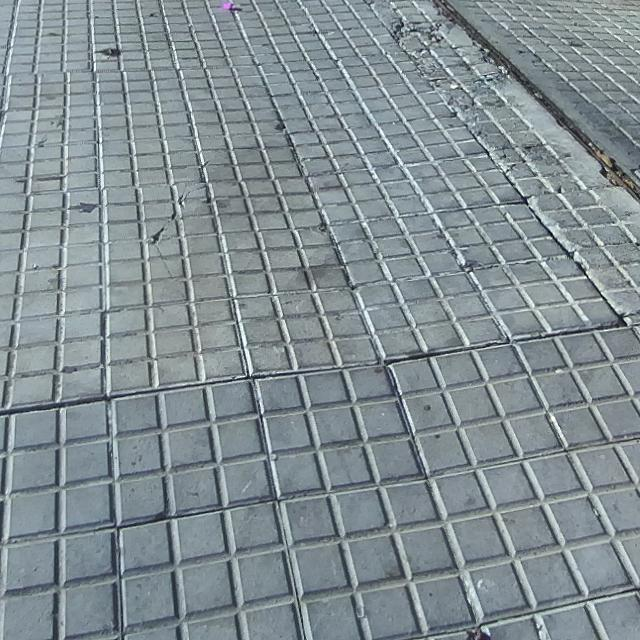calcada_quebrada: (145, 208, 175, 280), (177, 160, 212, 207)
